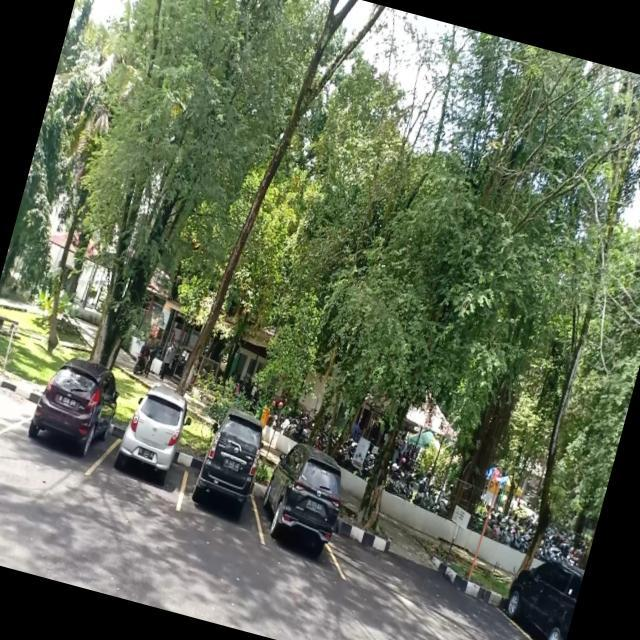occupied: (250, 465, 358, 565), (101, 400, 201, 504), (18, 379, 122, 475), (175, 432, 273, 532)
